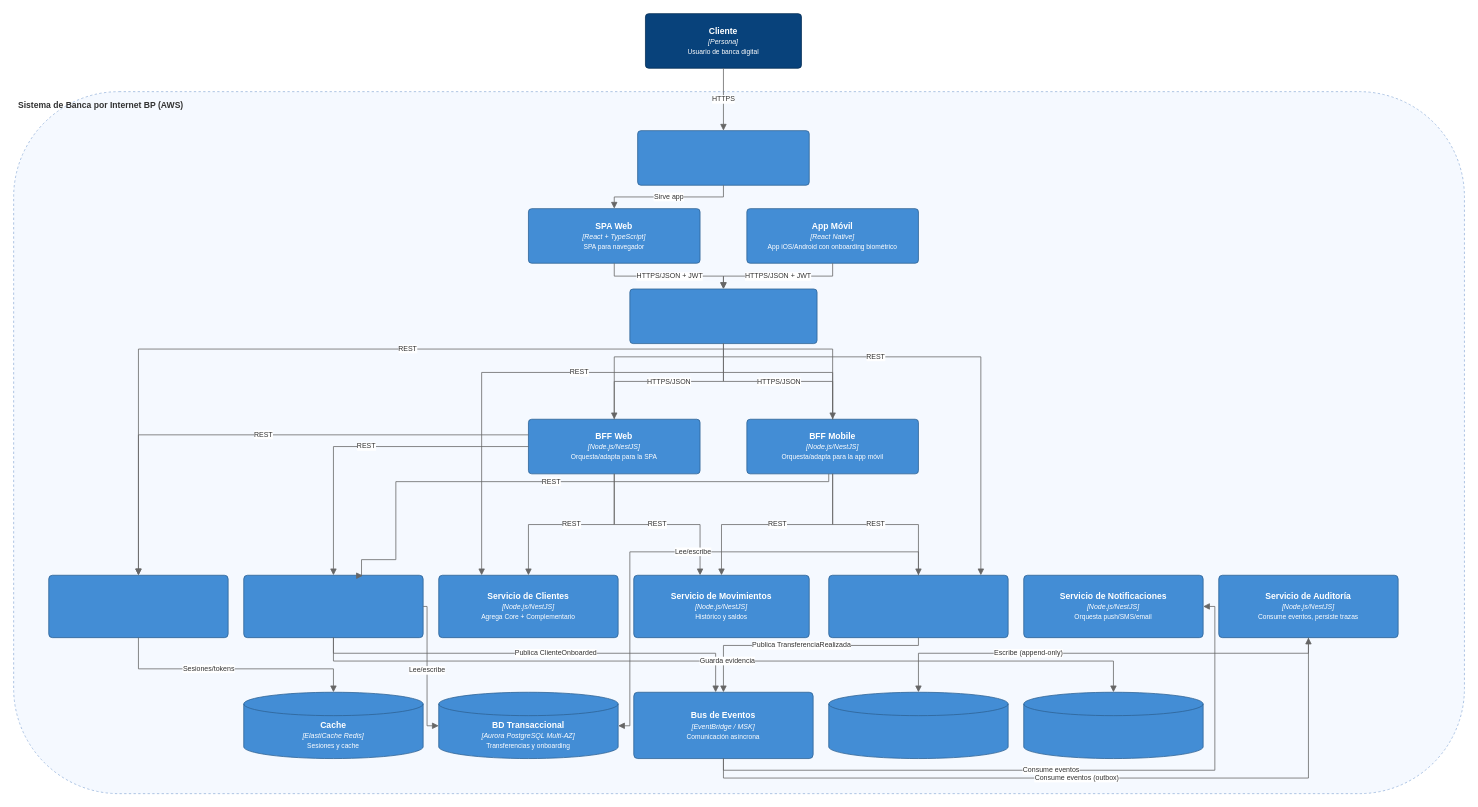
Image size: 1478x807. Some labels were removed from this diagram. The shapes that lost their labels are listed below. From the top down, each one's centre as x and y in pixels, then its label:
At point 723,157: "CDN + WAF [CloudFront + AWS WAF] Distribución estática y protección perimetral".
At point 723,316: "API Gateway [Amazon API Gateway] Entrada única, throttling, valida JWT, mTLS".
At point 138,606: "Servicio de Identidad [Node.js/NestJS] Token broker OAuth2.0 + WebAuthn".
At point 333,606: "Servicio de Onboarding [Node.js/NestJS] Registro + verificación de identidad".
At point 918,606: "Servicio de Transferencias [Node.js/NestJS] Propias e interbancarias".
At point 918,725: "BD de Auditoría [Aurora append-only + hash-chain] Registro inmutable".
At point 1113,725: "Evidencia [S3 + KMS] Evidencia biométrica cifrada".
